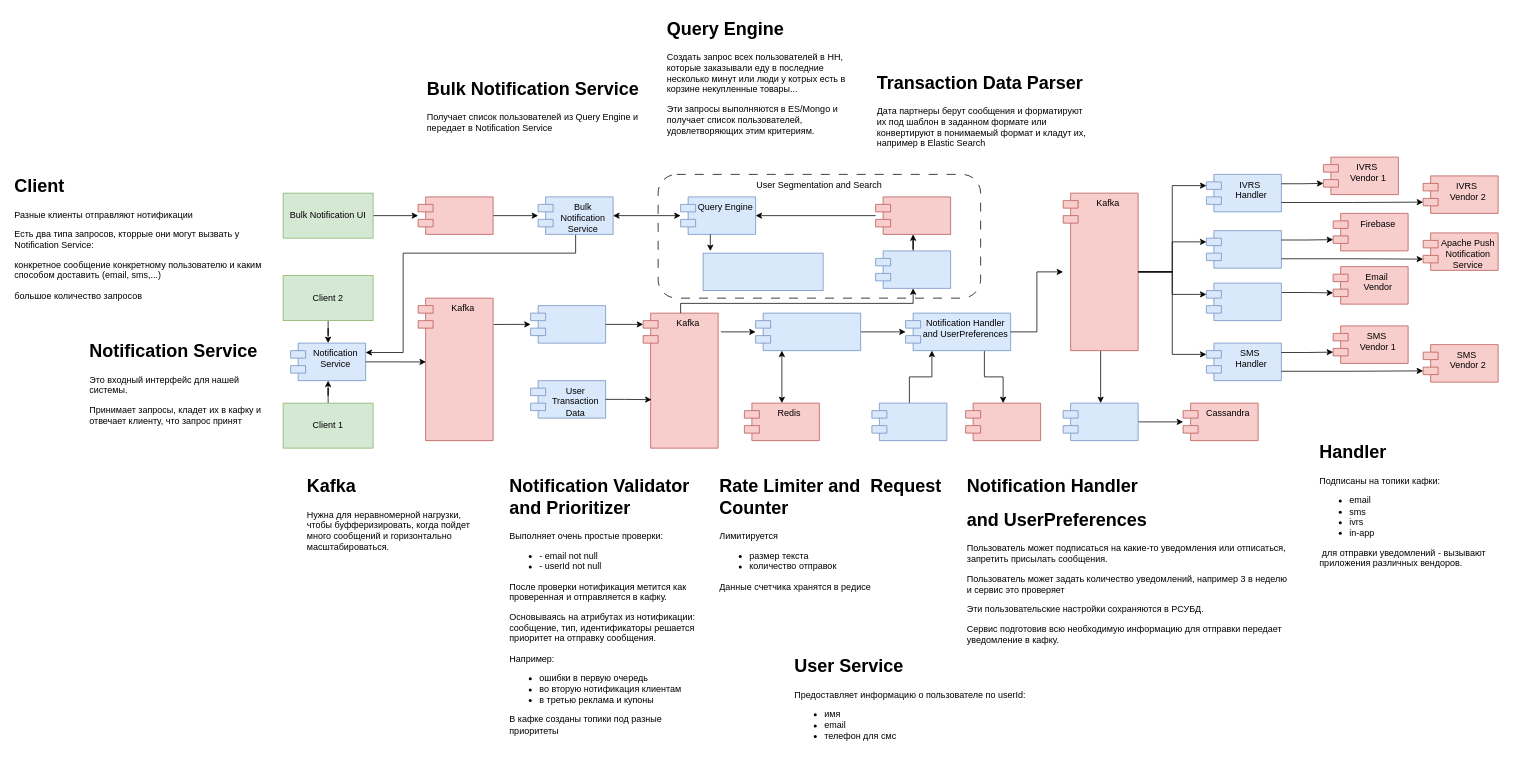
Image size: 1518x778. Some labels were removed from this diagram. Here are the shapes that lost their labels. From the top down, the centre of each, then its label:
At pixel 455 215: "LB".
At pixel 913 215: "ES/Mongo".
At pixel 913 269: "Transaction Data Parser".
At pixel 1243 249: "In-App Handler".
At pixel 762 271: "Other Consumers: Rule Engines / Fraud Engines /Search Platform".
At pixel 1243 301: "Email Handler".
At pixel 568 324: "Notification Validator and Prioritizer".
At pixel 808 331: "Rate Limiter and Request Counter".
At pixel 909 421: "User Service".
At pixel 1003 421: "PreferencesDB PostgreSQl".
At pixel 1100 421: "Notification Tracker".
